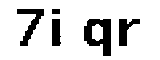7: (10, 6, 46, 51)
i: (48, 5, 70, 52)
q: (81, 12, 115, 60)
r: (116, 14, 142, 51)
